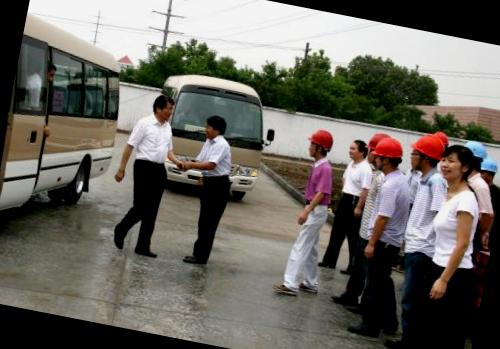no_helmet: (438, 140, 482, 188), (146, 89, 178, 125), (198, 109, 228, 140), (346, 134, 370, 163)
